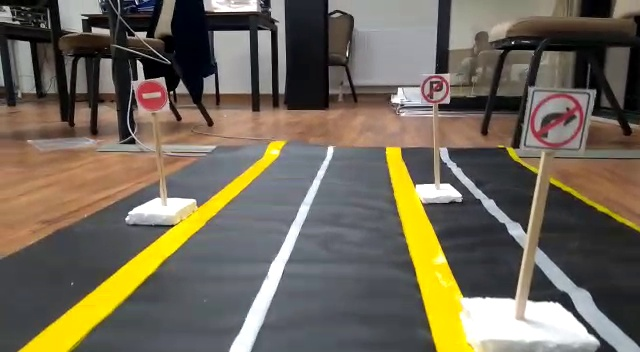girisi_olmayan_yol: (135, 77, 170, 112)
park_yapilmaz: (420, 73, 451, 105)
saga_donulmez: (527, 89, 587, 149)
